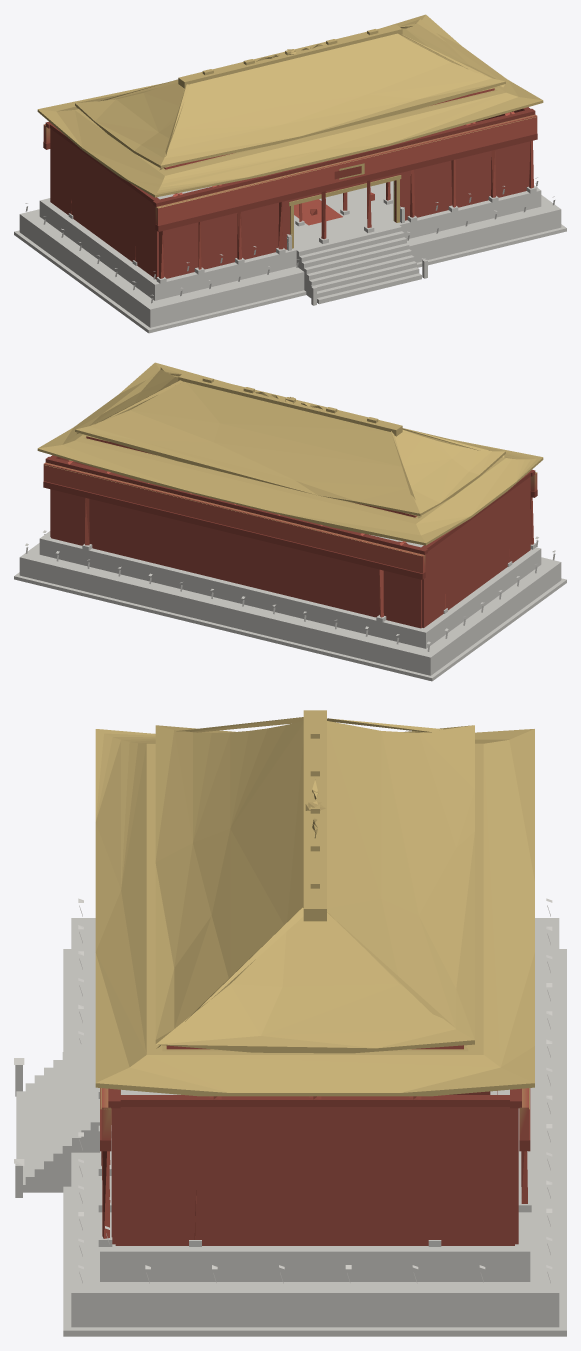
The model's file is lib_dien_dai.vc2.glb.
3 views of the same model, one above another, from view 1: azimuth 30°, elevation 25°; view 2: azimuth 150°, elevation 25°; view 3: azimuth 270°, elevation 25° (orthographic). The views are drawn at different scales.
Visible parts, largest first — view 1: lib_dien_dai; view 2: lib_dien_dai; view 3: lib_dien_dai.
Boxes of the visible parts, box(x1,y1,x2,y2) form: lib_dien_dai: box(14, 14, 566, 333); lib_dien_dai: box(14, 362, 566, 681); lib_dien_dai: box(14, 710, 566, 1336).
Size of the model in its own units: 40.7 by 17.1 by 24.93.
